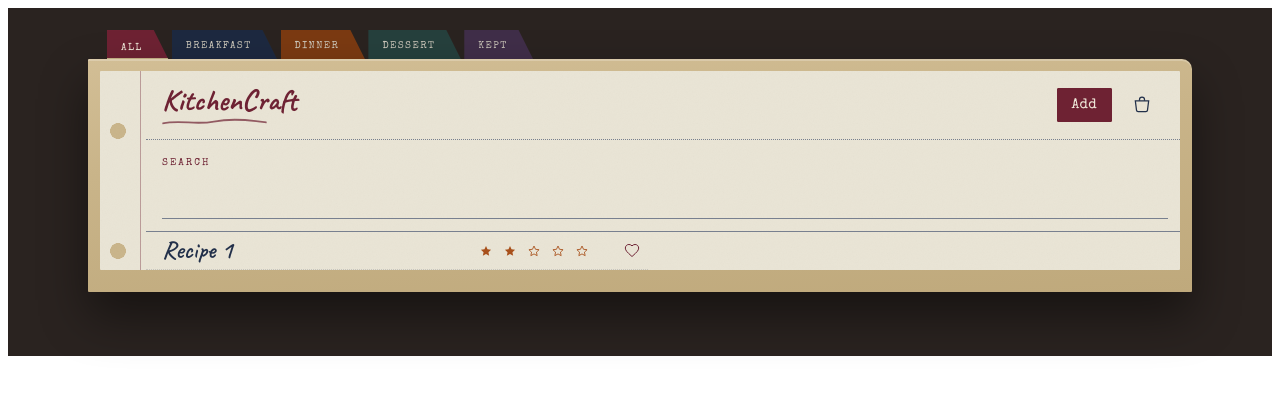
Test: rating from the collection › reverts the stars and reports when the write fails
The width and height of the screenshot is (1280, 401).
Click the radio button named "Rate 5 of 5" at (582, 250), box [570,238,594,264]
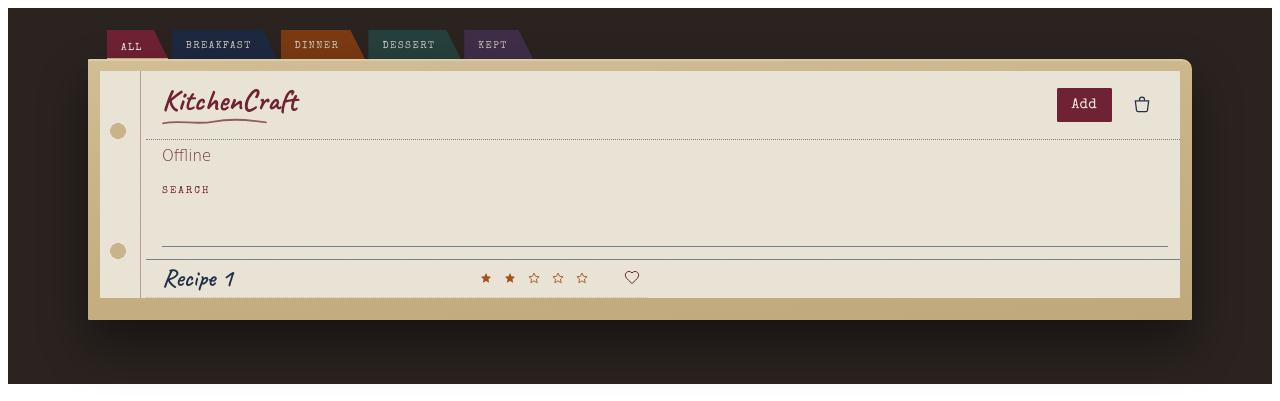
Now the text with test id "error" reads "Offline", box [162,147,211,165]
